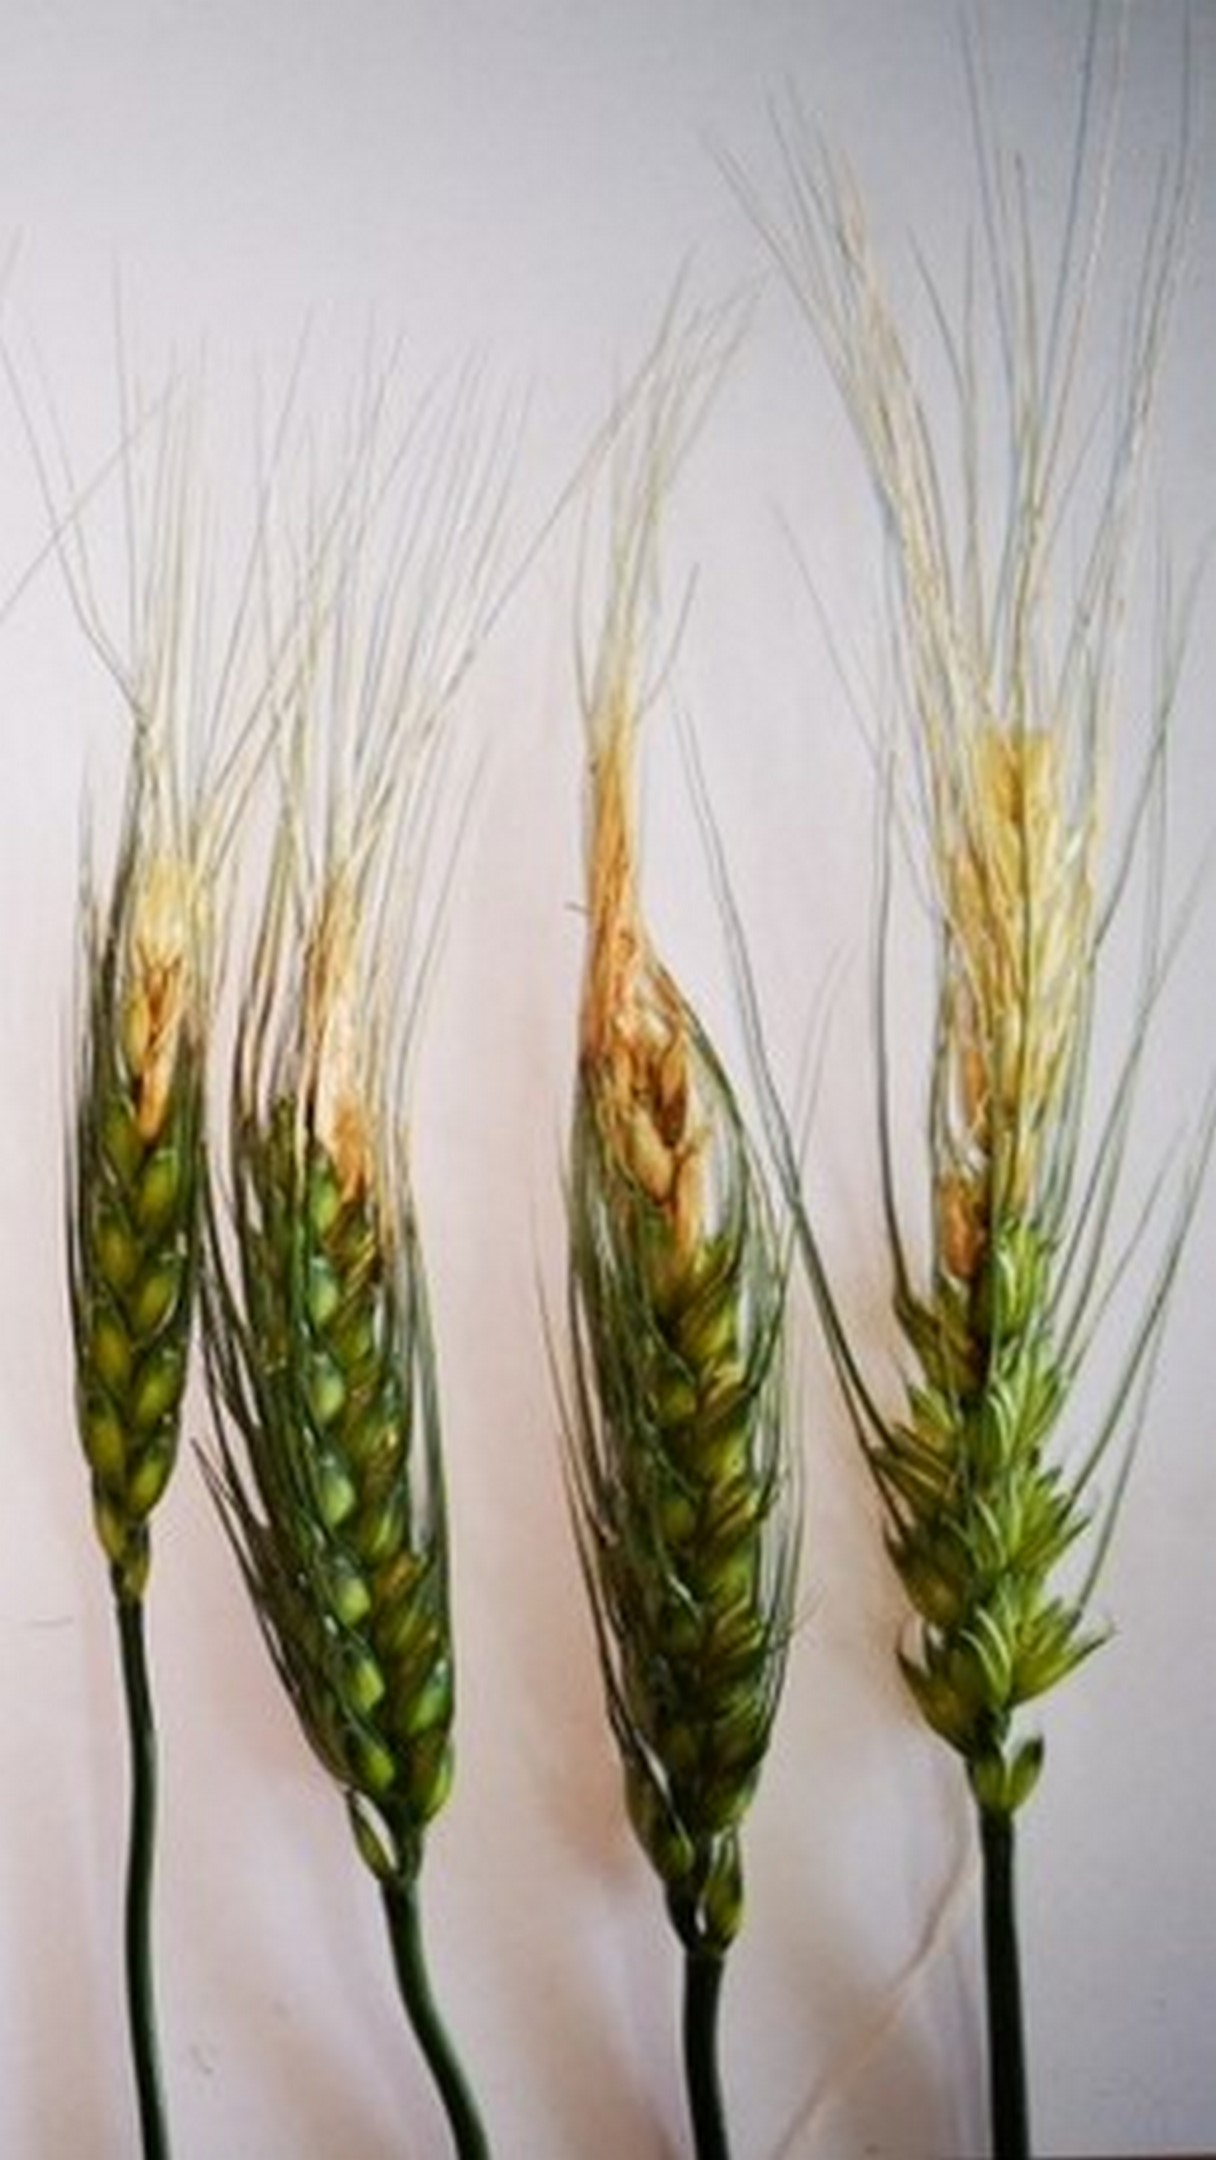Wheat scab: (39, 806, 492, 1889), (516, 629, 802, 1917), (859, 613, 1130, 1797)
